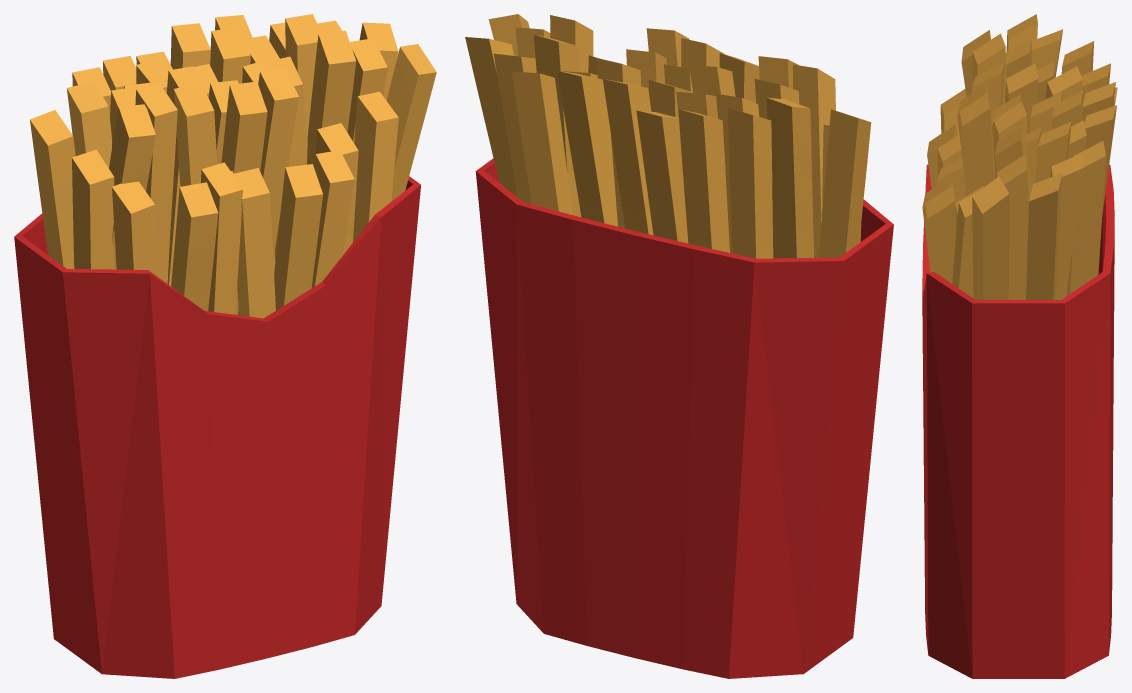
The model's file is fries.glb.
3 views of the same model, side by side, from view 1: azimuth 30°, elevation 25°; view 2: azimuth 150°, elevation 25°; view 3: azimuth 270°, elevation 25° (orthographic). The views are drawn at different scales.
Visible parts, largest first — view 1: Node; view 2: Node; view 3: Node.
Part boxes in pixels (x1,y1,x2,y2): Node: (14, 14, 436, 678); Node: (465, 14, 893, 678); Node: (922, 14, 1117, 678).
Bounding box in the file's own units: 1.1 × 1.55 × 0.5106.
